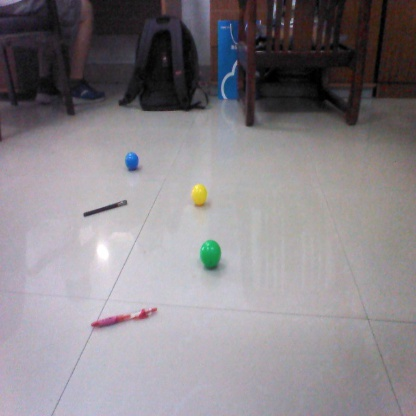ball: (198, 239, 224, 267), (189, 183, 210, 205), (123, 151, 142, 169)
pen: (87, 308, 159, 328), (80, 197, 130, 218)
